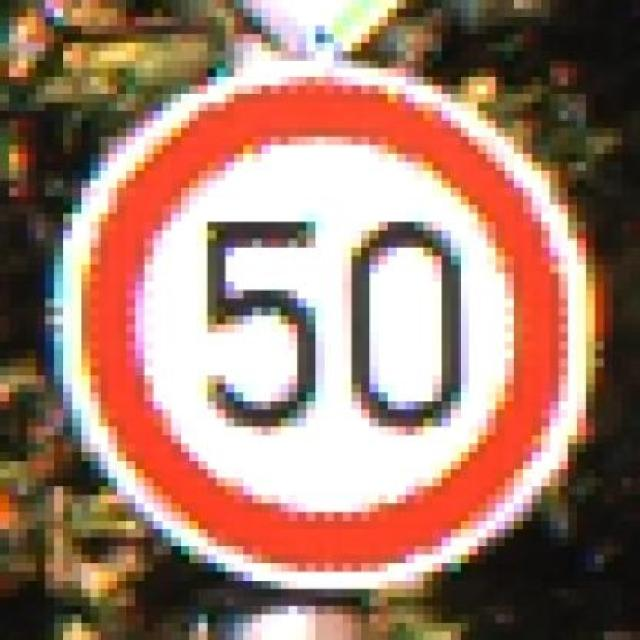forb_speed_over_50: (71, 77, 577, 585)
